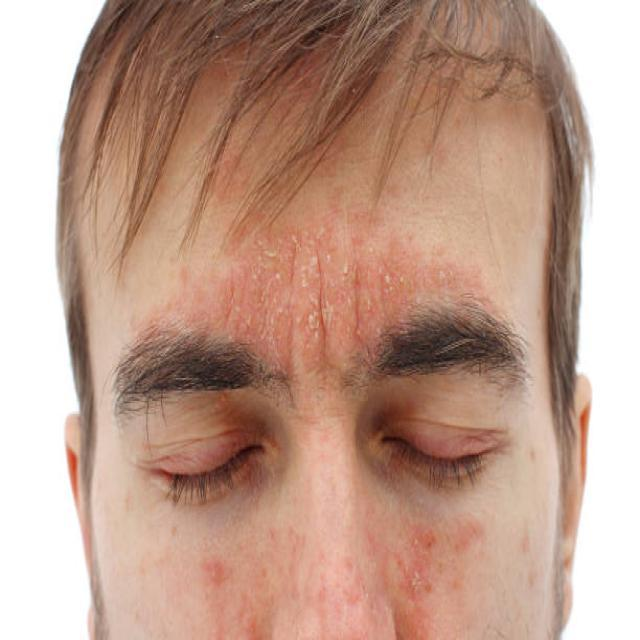dry: (189, 202, 430, 348), (378, 496, 492, 634)
